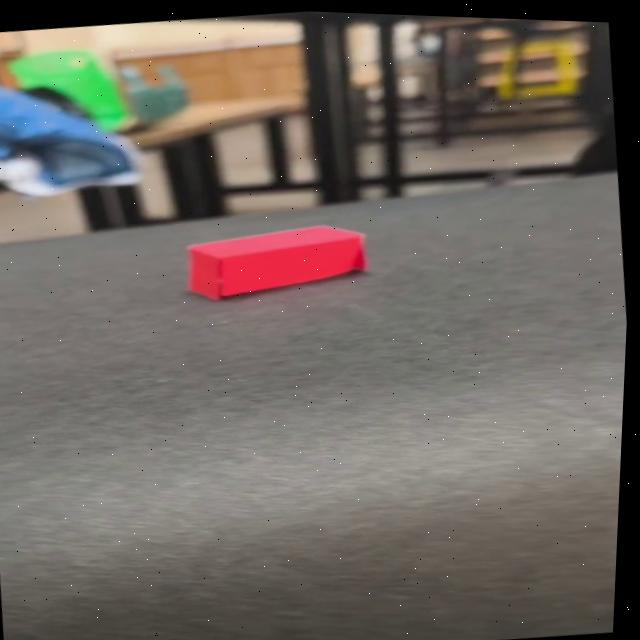red block: (178, 214, 372, 309)
